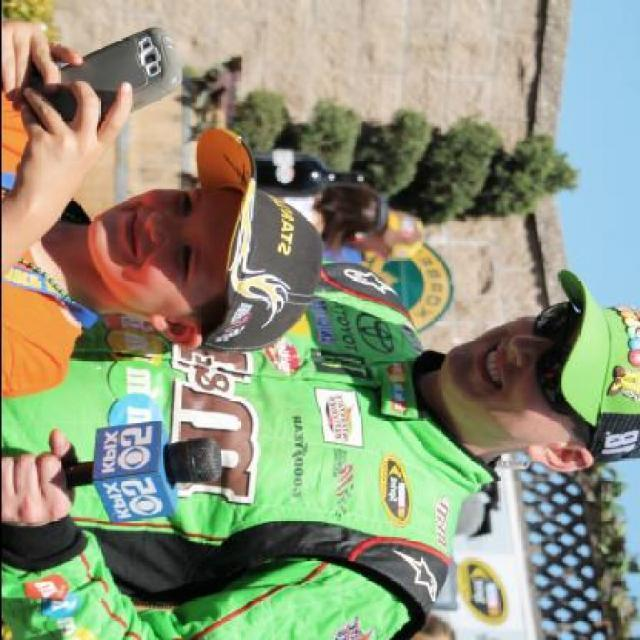phone: (42, 12, 180, 124)
